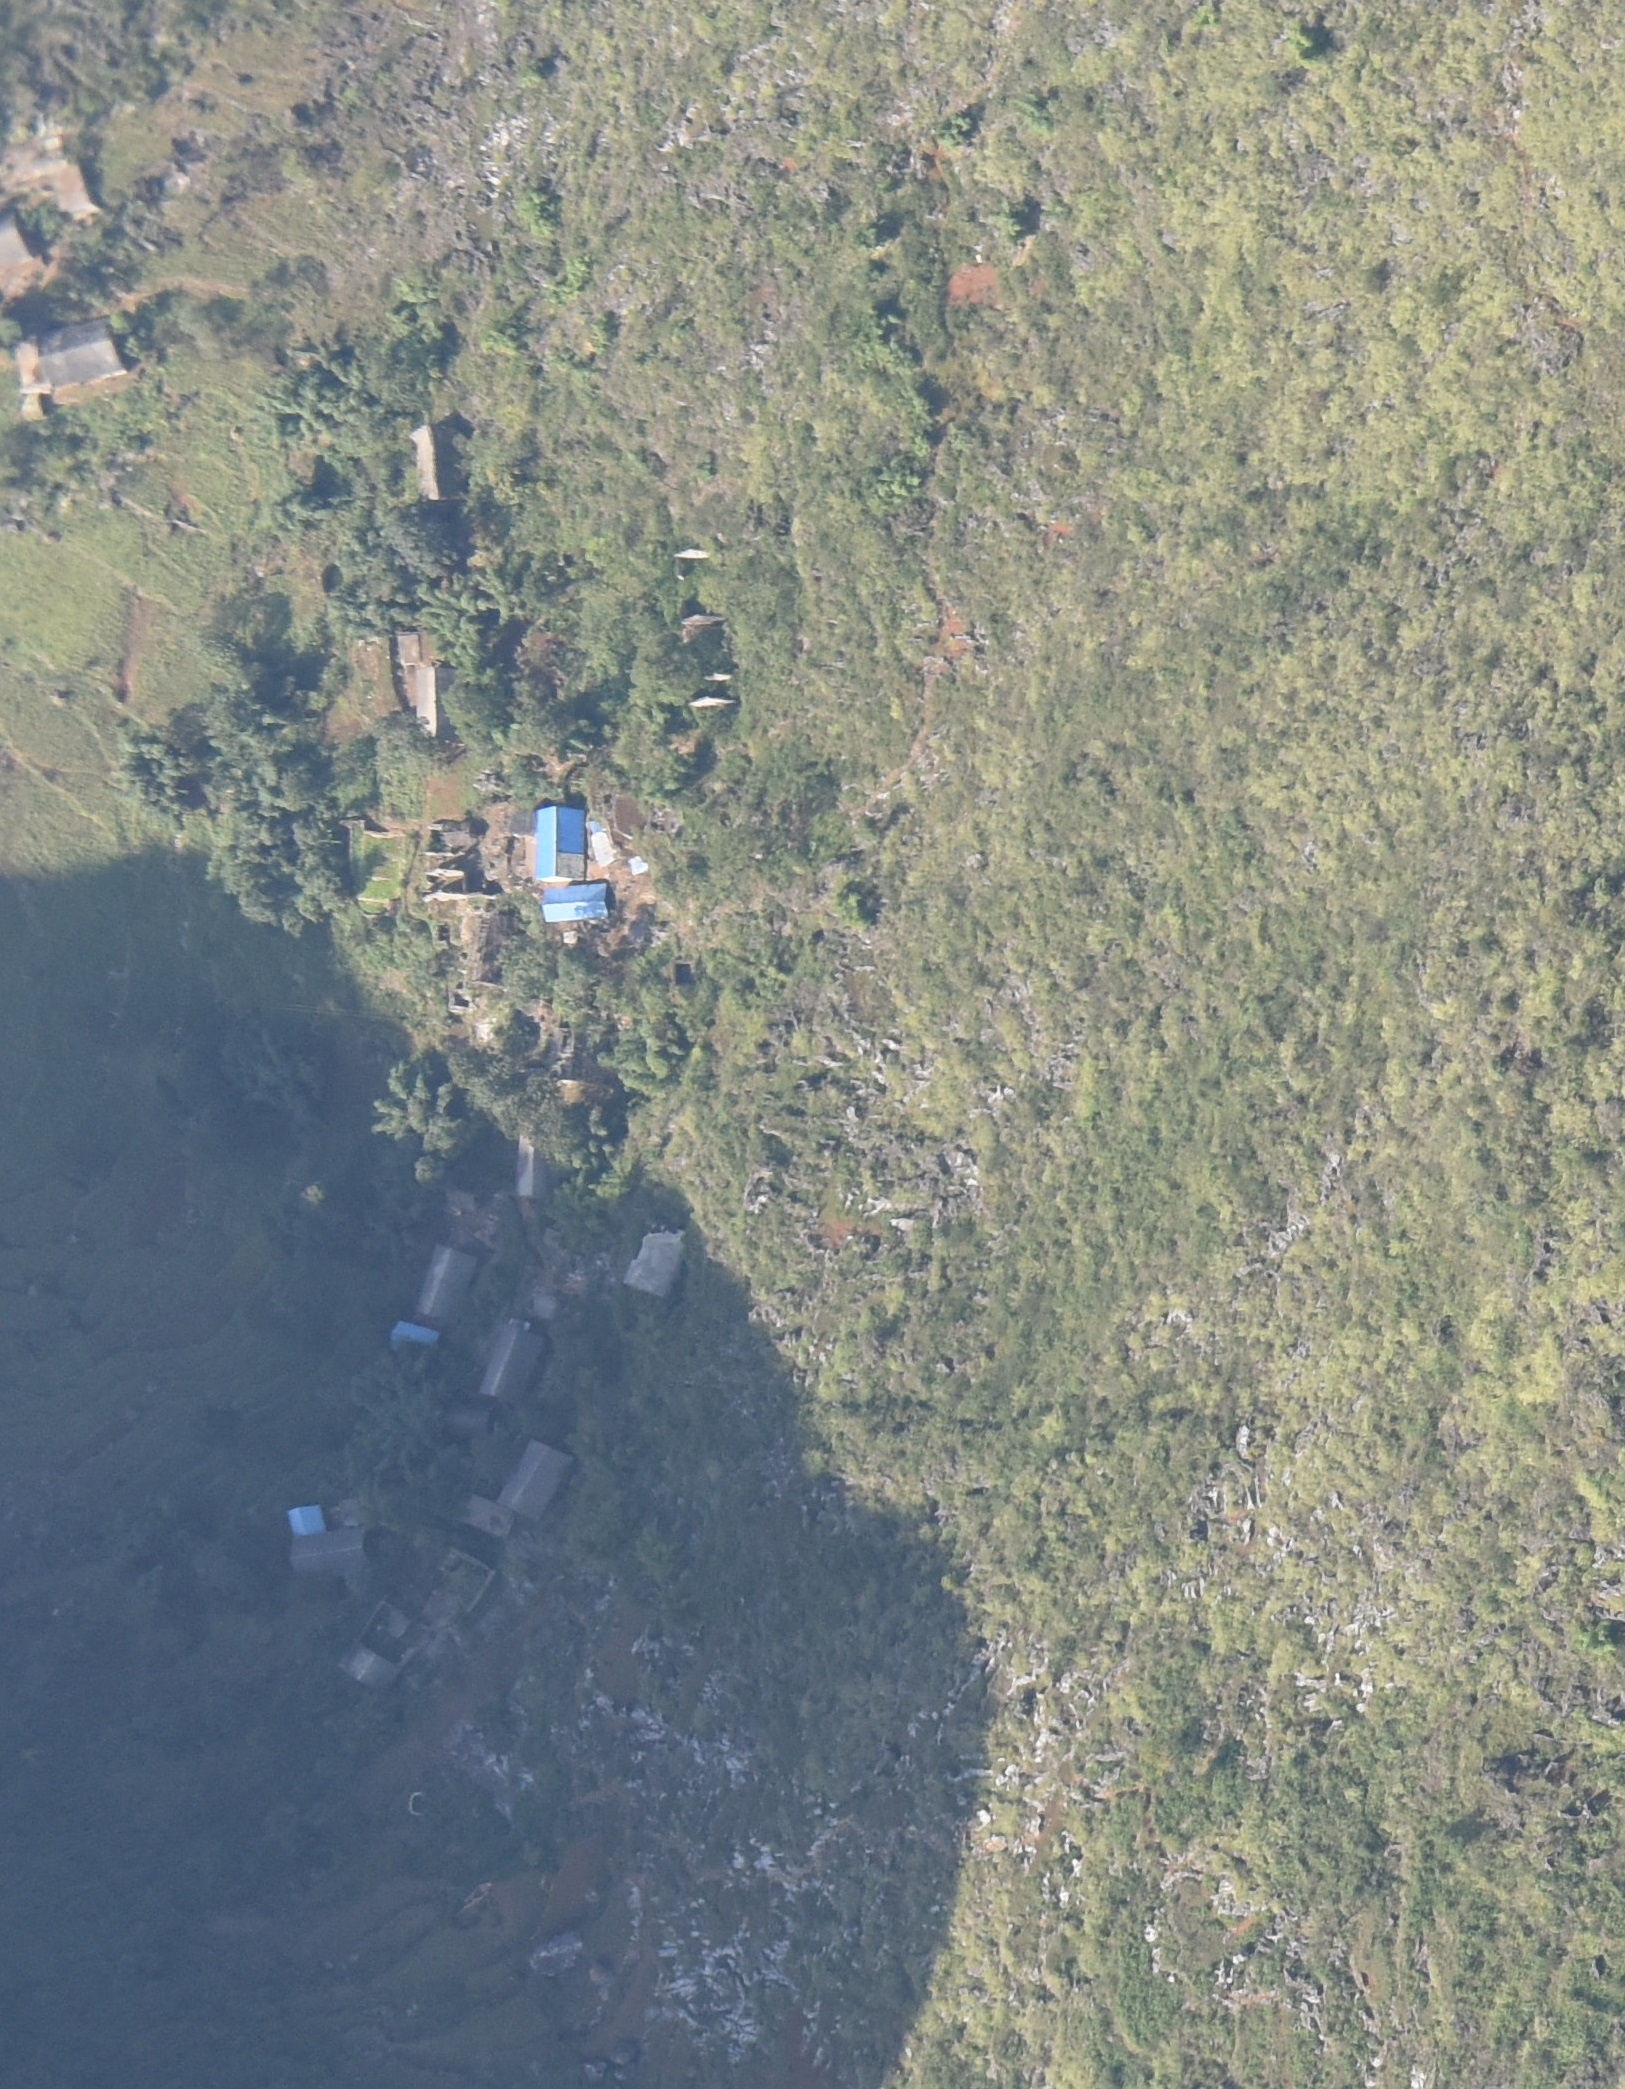building: (14, 324, 124, 402), (395, 624, 460, 739), (3, 136, 97, 203), (504, 1436, 573, 1519), (482, 1317, 544, 1407), (416, 1246, 478, 1321), (412, 422, 466, 499), (628, 1228, 685, 1295), (290, 1533, 370, 1575), (341, 1640, 400, 1689), (516, 1129, 556, 1200), (456, 1490, 519, 1536), (2, 220, 36, 300)
prefabricated-house: (529, 804, 589, 877), (544, 882, 611, 924), (392, 1317, 448, 1358), (287, 1502, 326, 1535)
